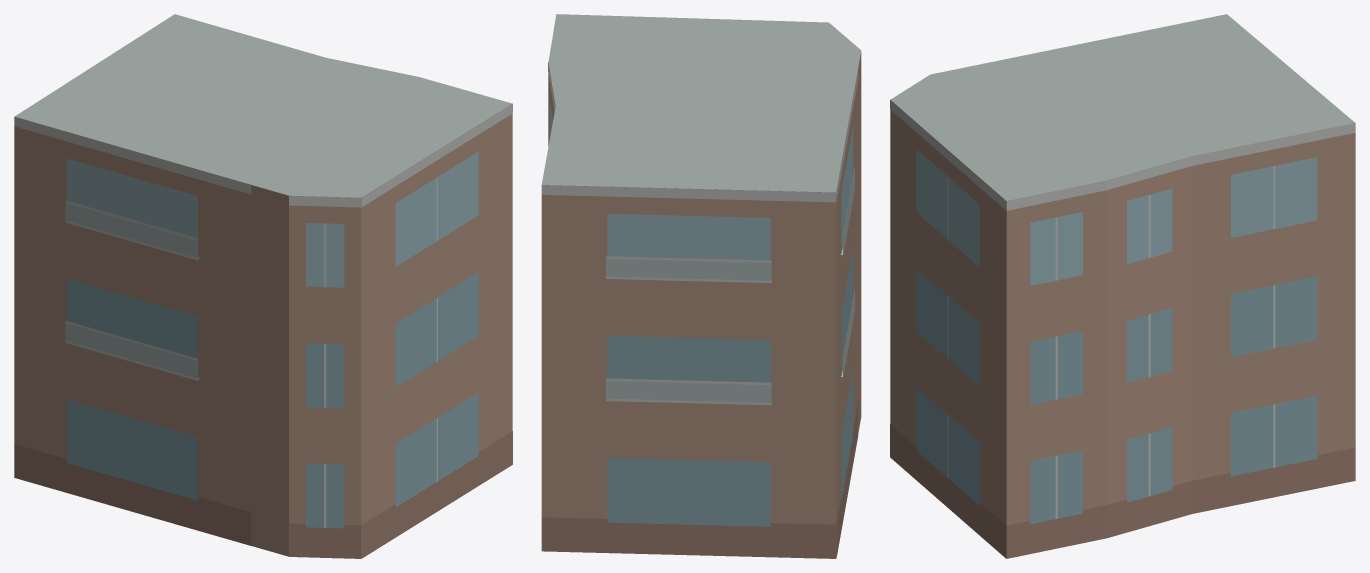
Rendered from survey-upis-32533295.glb.
3 renders of one model, left to right at view 1: azimuth 30°, elevation 25°; view 2: azimuth 150°, elevation 25°; view 3: azimuth 270°, elevation 25°, orthographic. The views are drawn at different scales.
Parts seen in each view (by area): view 1: survey-upis-32533295.tmp; view 2: survey-upis-32533295.tmp; view 3: survey-upis-32533295.tmp.
Boxes of the visible parts, x1,y1,x2,y2 form: survey-upis-32533295.tmp: (14, 14, 512, 558); survey-upis-32533295.tmp: (541, 14, 861, 558); survey-upis-32533295.tmp: (890, 14, 1355, 558).
Bounding box in the file's own units: 10.11 × 9 × 10.62.
